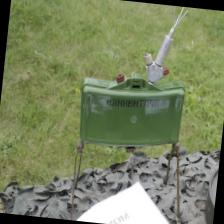MOH-50: (72, 68, 191, 160)
